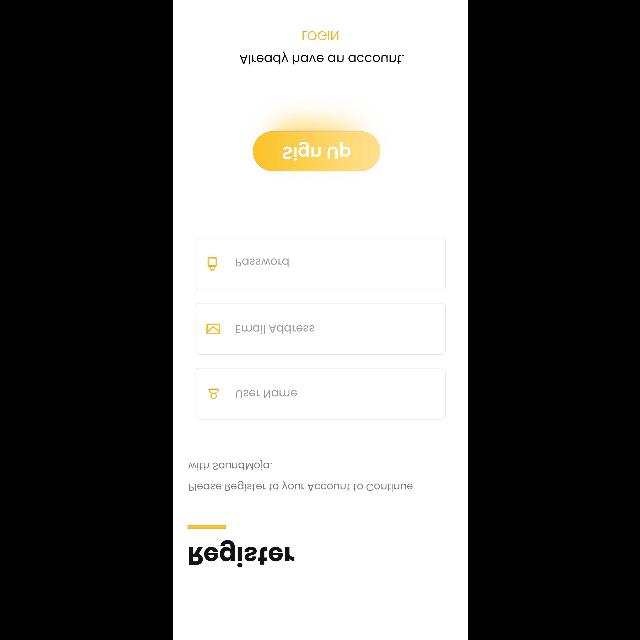icon: (206, 324, 220, 334), (208, 257, 216, 271), (208, 389, 218, 399)
input: (195, 368, 445, 420), (195, 303, 445, 355), (195, 238, 445, 290)
text: (188, 460, 412, 492), (188, 540, 294, 568), (239, 51, 403, 64), (235, 324, 313, 334), (236, 390, 296, 398), (235, 258, 288, 266), (302, 32, 338, 40)
textbutton: (252, 131, 380, 171)
